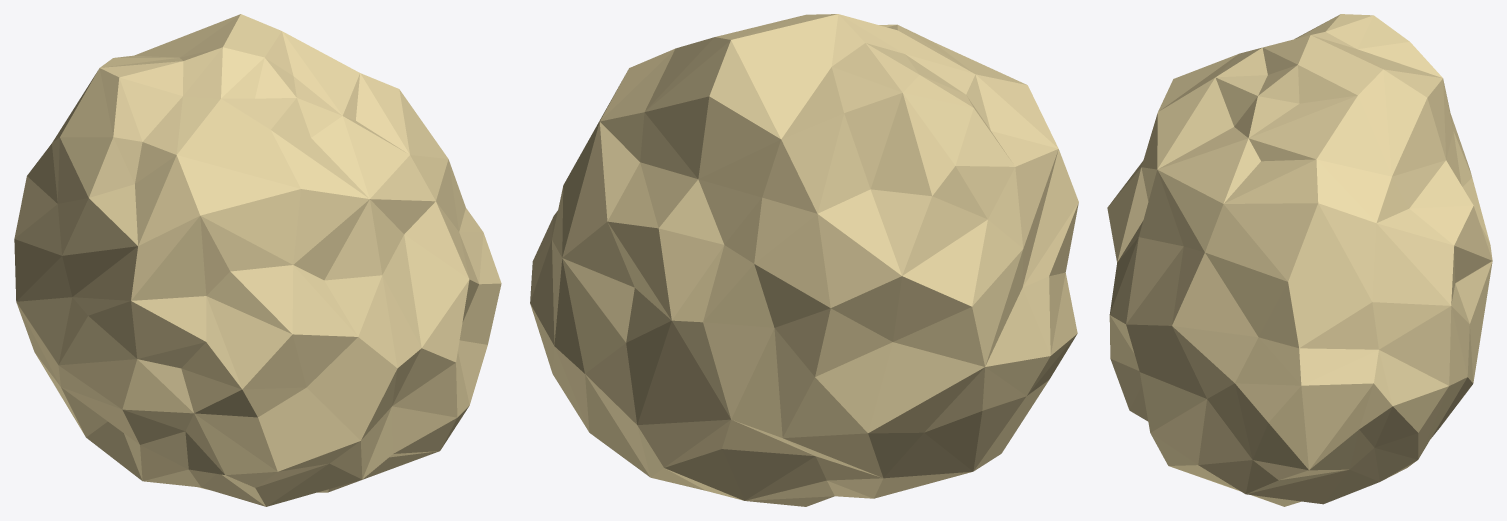
Rendered from Asteroid (120).fbx.
The picture shows the model from 3 angles, left to right: view 1: azimuth 30°, elevation 25°; view 2: azimuth 150°, elevation 25°; view 3: azimuth 270°, elevation 25°; orthographic projection. The views are drawn at different scales.
Visible parts, largest first — view 1: Asteroid177; view 2: Asteroid177; view 3: Asteroid177.
Boxes of the visible parts, left/top/right/bottom form: Asteroid177: left=14, top=14, right=501, bottom=506; Asteroid177: left=530, top=14, right=1078, bottom=506; Asteroid177: left=1107, top=14, right=1492, bottom=506.
Bounding box in the file's own units: 414 × 410 × 337.
